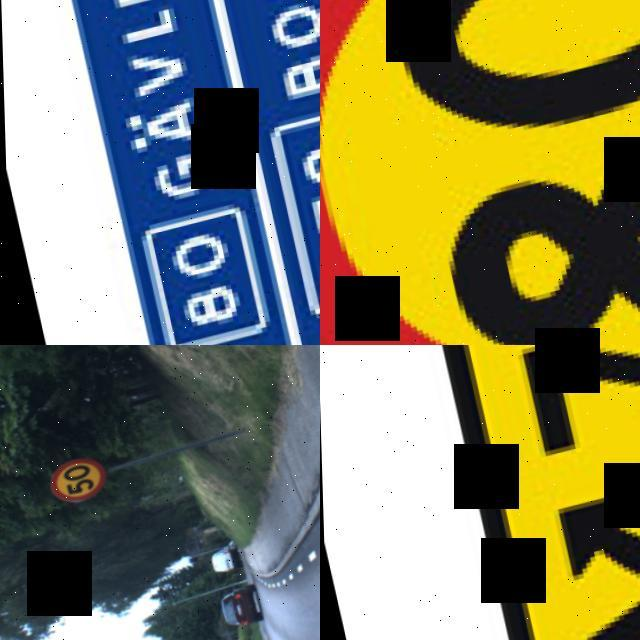125: (408, 345, 640, 640)
55: (320, 0, 640, 345), (38, 452, 114, 514)
Advance direction sign exit ahead from other road than motorway or expressway: (30, 0, 320, 345)
speed limit-80: (320, 0, 640, 345)
